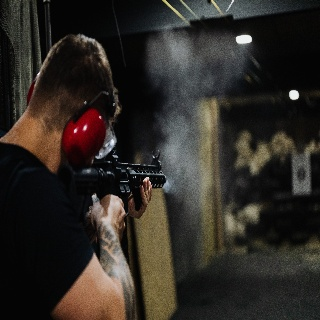rifle: (58, 148, 169, 223)
